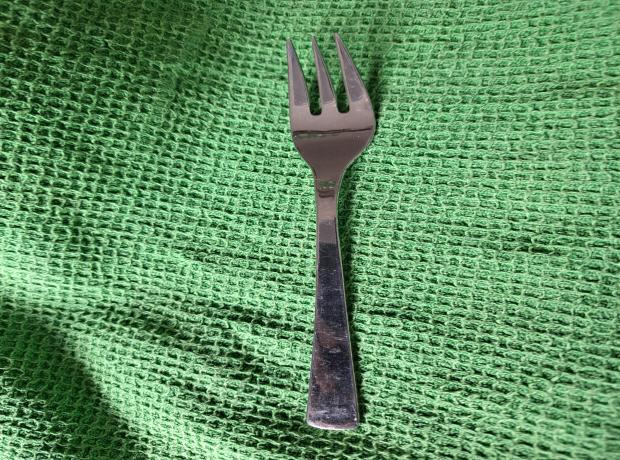metal: (282, 33, 382, 431)
